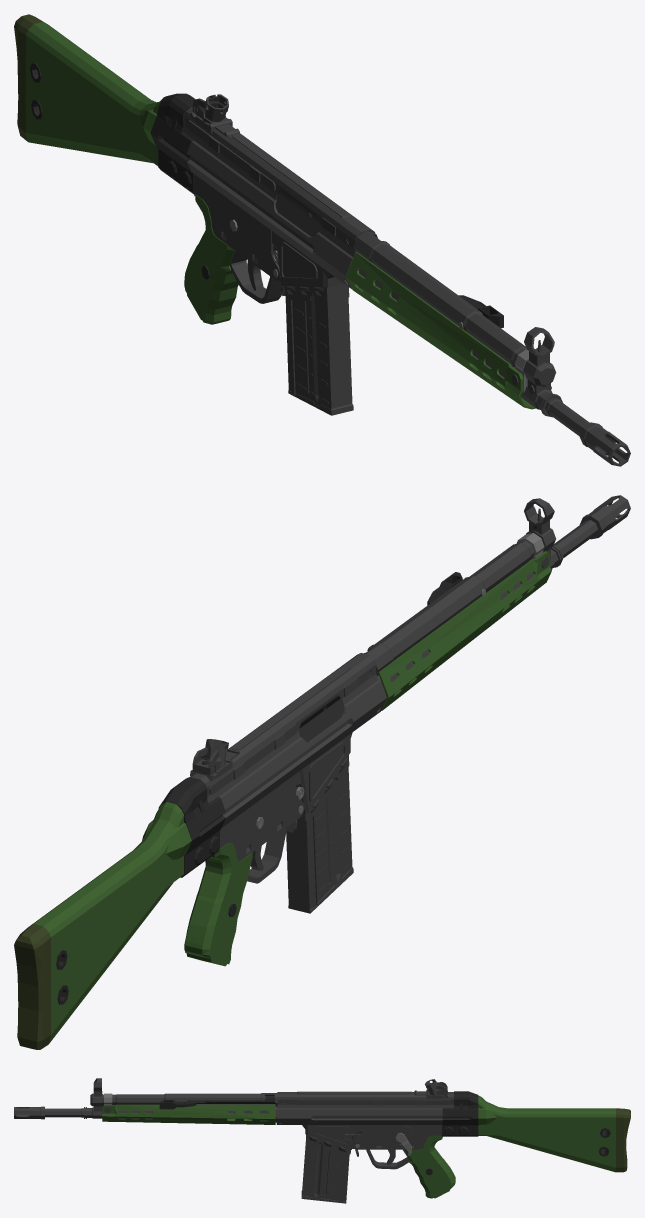
3 renders of one model, top to bottom at view 1: azimuth 30°, elevation 25°; view 2: azimuth 150°, elevation 25°; view 3: azimuth 270°, elevation 25°, orthographic. The views are drawn at different scales.
Parts seen in each view (by area): view 1: Object_5, Object_7, Object_6, Object_2; view 2: Object_5, Object_7, Object_6, Object_2; view 3: Object_5, Object_7, Object_6, Object_2, Object_8.
Boxes of the visible parts, <box> form: Object_5: <box>183,94,630,466</box>; Object_7: <box>26,22,551,409</box>; Object_6: <box>30,63,503,328</box>; Object_2: <box>14,14,42,141</box>; Object_5: <box>190,495,630,913</box>; Object_7: <box>30,551,551,1043</box>; Object_6: <box>56,525,536,1004</box>; Object_2: <box>14,924,50,1049</box>; Object_5: <box>14,1078,453,1203</box>; Object_7: <box>102,1095,615,1198</box>; Object_6: <box>102,1091,610,1175</box>; Object_2: <box>616,1108,630,1172</box>; Object_8: <box>104,1093,411,1156</box>.
Size of the model in its own units: 0.0536 by 0.2646 by 1.21.
